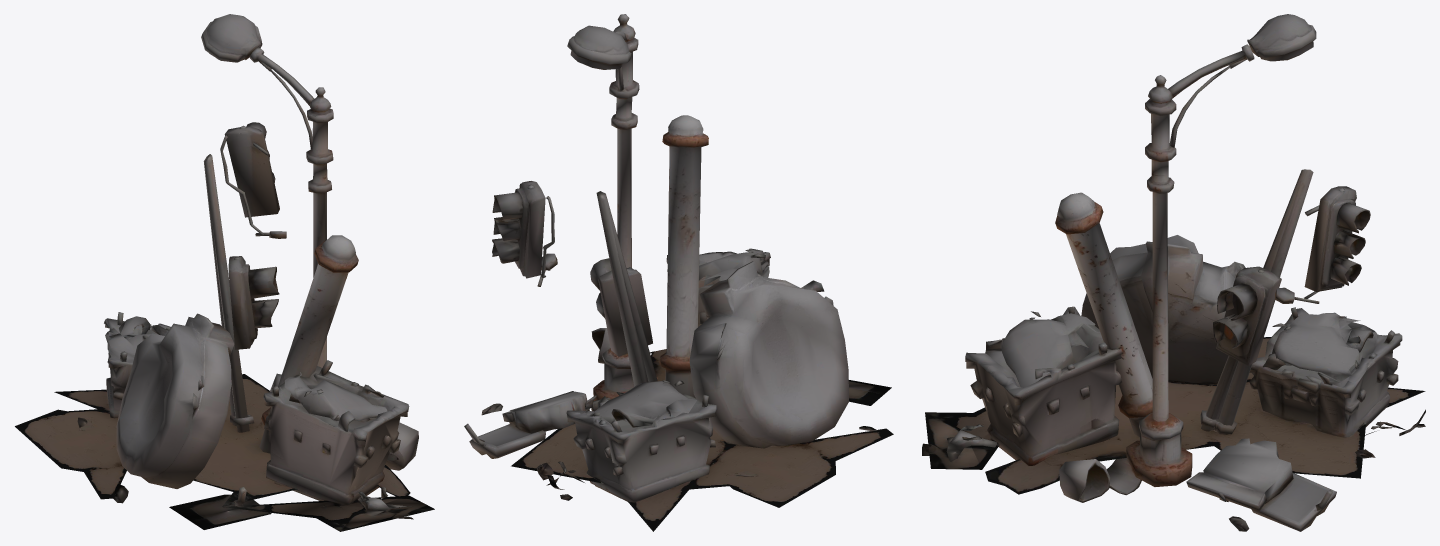
File: streetlight_props.glb
3 views of the same model, side by side, from view 1: azimuth 30°, elevation 25°; view 2: azimuth 150°, elevation 25°; view 3: azimuth 270°, elevation 25° (orthographic). The views are drawn at different scales.
Visible parts, largest first — view 1: tripo_node_9a82ce4a-a0b6-49e9-b292-c0bcbf5c49fe; view 2: tripo_node_9a82ce4a-a0b6-49e9-b292-c0bcbf5c49fe; view 3: tripo_node_9a82ce4a-a0b6-49e9-b292-c0bcbf5c49fe.
Part boxes in pixels (bbox=[...]): tripo_node_9a82ce4a-a0b6-49e9-b292-c0bcbf5c49fe: bbox=[15, 14, 434, 531]; tripo_node_9a82ce4a-a0b6-49e9-b292-c0bcbf5c49fe: bbox=[464, 14, 893, 531]; tripo_node_9a82ce4a-a0b6-49e9-b292-c0bcbf5c49fe: bbox=[922, 14, 1425, 531].
Bounding box in the file's own units: 0.8379 × 0.998 × 0.998.
Materials: 1 (1 with a texture image).
